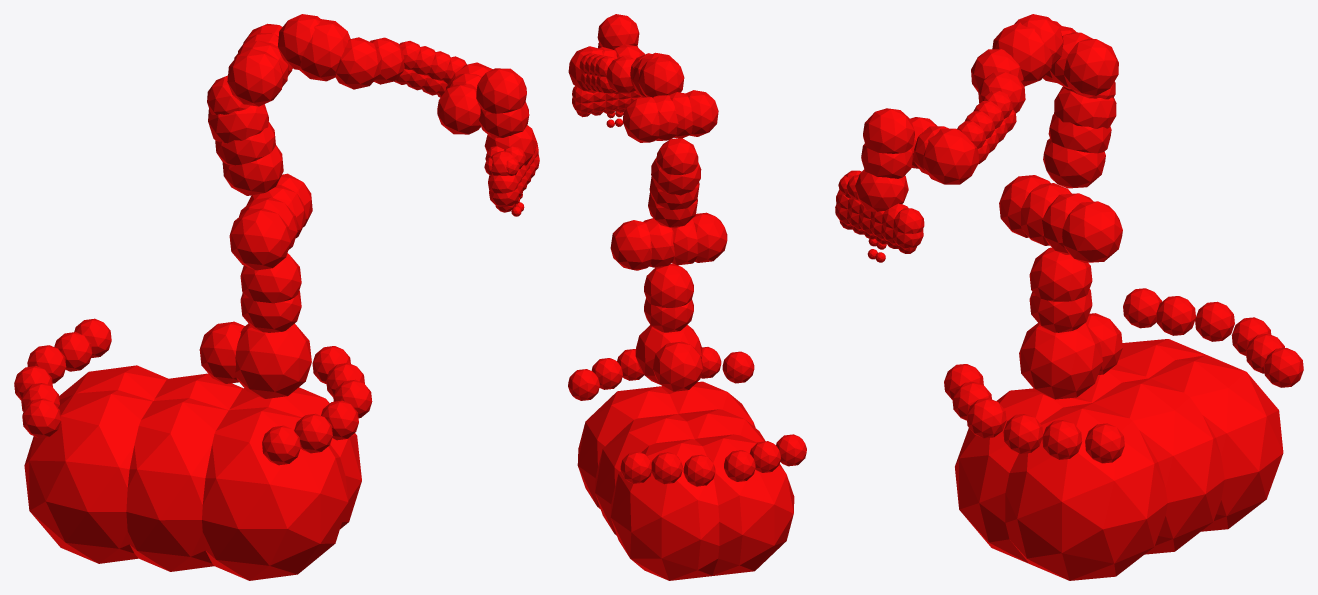
Rendered from curobo.glb.
3 views of the same model, side by side, from view 1: azimuth 30°, elevation 25°; view 2: azimuth 150°, elevation 25°; view 3: azimuth 270°, elevation 25° (orthographic). The views are drawn at different scales.
Parts seen in each view (by area): view 1: world; view 2: world; view 3: world.
Boxes of the visible parts, left/top/right/bottom form: world: left=14, top=14, right=539, bottom=580; world: left=568, top=14, right=806, bottom=580; world: left=835, top=14, right=1303, bottom=580.
Bounding box in the file's own units: 0.87 × 1.15 × 0.87.
